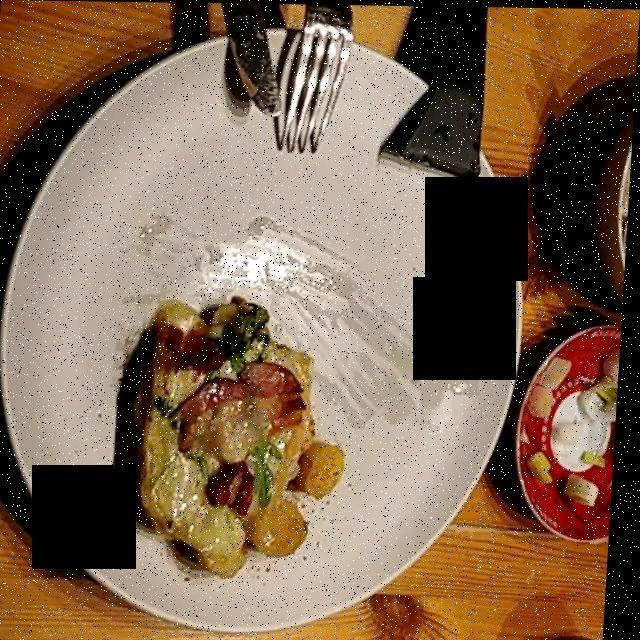bacon: (186, 360, 321, 514)
cheese: (151, 311, 322, 572)
potatoes: (258, 430, 350, 564)
salad: (225, 298, 271, 361)
tomato: (183, 332, 231, 372)
